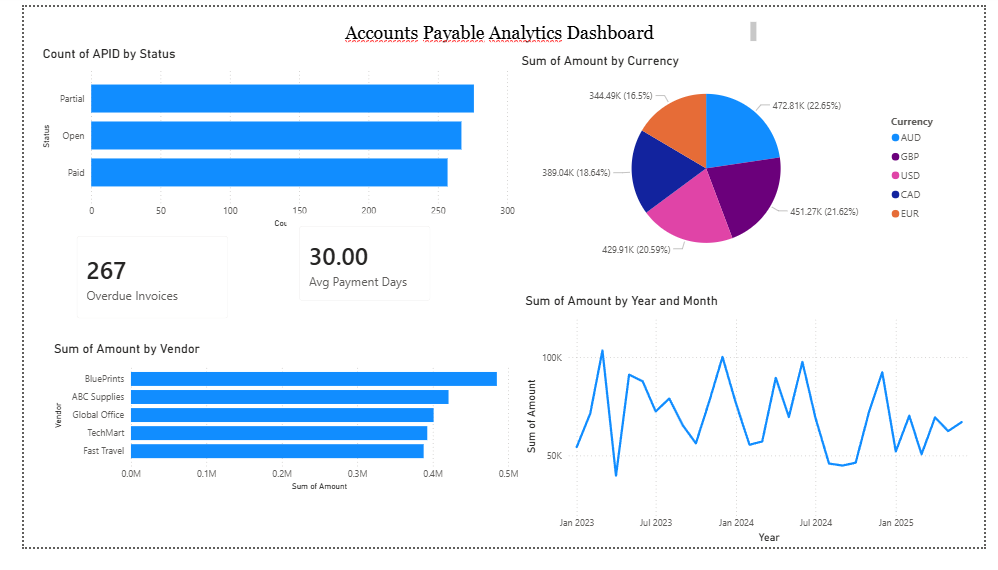

What the dashboard file says about the page in this screenshot:
{"tool":"powerbi","page":{"name":"Accounts Payable Analytics Dashboard","canvas":[1280,720],"ordinal":0},"visuals":[{"type":"clusteredBarChart","fields":{"Category":["Sheet1.Vendor"],"Y":["Sum(Sheet1.Amount)"]},"box":[34.3,444.6,629.8,205.8],"z":0},{"type":"pieChart","fields":{"Category":["Sheet1.Currency"],"Y":["Sum(Sheet1.Amount)"]},"box":[658.7,61.7,577.7,288.2],"z":1},{"type":"clusteredBarChart","fields":{"Category":["Sheet1.Status"],"Y":["CountNonNull(Sheet1.APID)"]},"box":[19.2,52.1,639.5,248.4],"z":2},{"type":"lineChart","fields":{"Y":["Sum(Sheet1.Amount)"],"Category":["Sheet1.InvoiceDate.Variation.Date Hierarchy.Year","Sheet1.InvoiceDate.Variation.Date Hierarchy.Month"]},"box":[664.2,381.5,616.1,338.9],"z":3},{"type":"cardVisual","fields":{"Data":["Sheet1.Overdue Invoices"]},"box":[53.5,288.2,236,144.1],"z":4},{"type":"cardVisual","fields":{"Data":["Sheet1.Avg Payment Days"]},"box":[349.9,274.4,209.9,134.5],"z":5},{"type":"textbox","box":[293.3,15,688.3,36.7],"z":6}]}

Visuals, with their boxes in screenshot pixels (x1, y1, x2, y2), scaled from the page's 1280x720 canvas onto the 998x570 screenshot:
clusteredBarChart - Sheet1.Vendor x Sum(Sheet1.Amount): 27 352 518 515
pieChart - Sheet1.Currency x Sum(Sheet1.Amount): 514 49 964 277
clusteredBarChart - Sheet1.Status x CountNonNull(Sheet1.APID): 15 41 514 238
lineChart - Sum(Sheet1.Amount) x Sheet1.InvoiceDate.Variation.Date Hierarchy.Year: 518 302 997 569
cardVisual - Sheet1.Overdue Invoices: 42 228 226 342
cardVisual - Sheet1.Avg Payment Days: 273 217 436 324
textbox: 229 12 765 41
